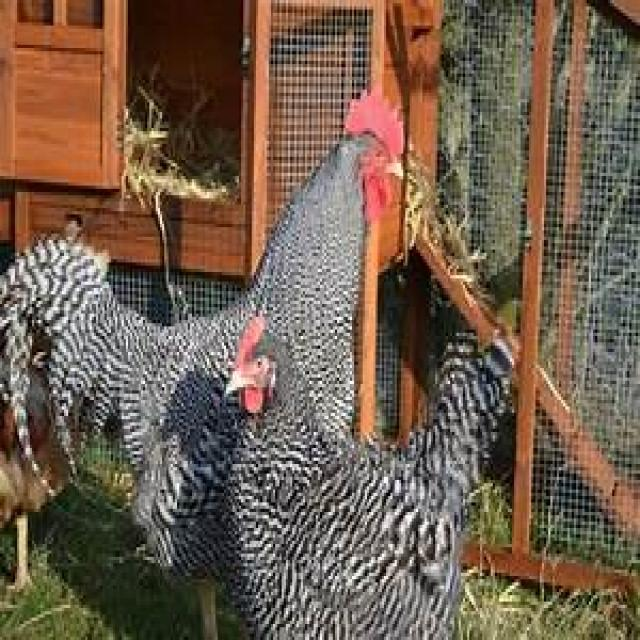hen: (0, 99, 401, 563), (228, 317, 510, 640)
